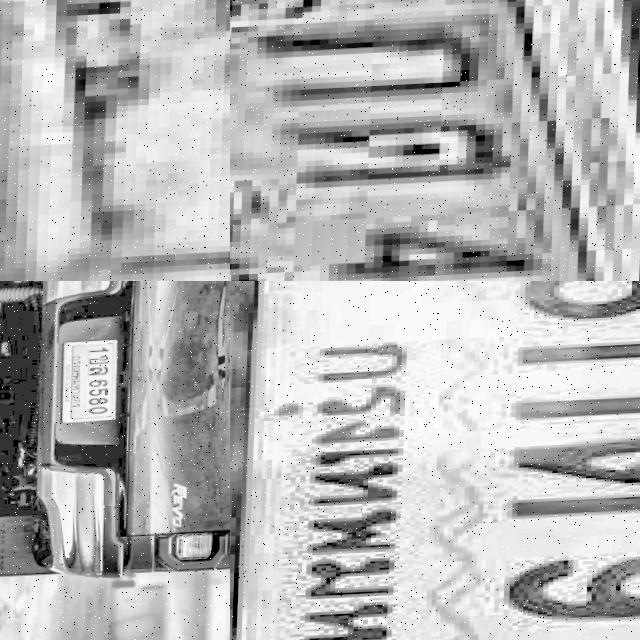license-plate: (230, 281, 640, 640), (230, 0, 640, 281), (0, 0, 230, 281), (47, 338, 132, 427)
